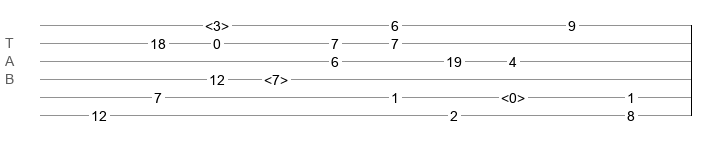0: (213, 36, 221, 46)
1: (391, 90, 399, 100), (627, 90, 635, 100)
12: (91, 108, 107, 118), (209, 72, 225, 82)
18: (150, 36, 166, 46)
19: (446, 54, 462, 64)
2: (450, 108, 458, 118)
4: (509, 54, 517, 64)
6: (331, 54, 339, 64), (391, 18, 399, 28)
7: (154, 90, 162, 100), (331, 36, 339, 46), (391, 36, 399, 46)
8: (627, 108, 635, 118)
9: (568, 18, 576, 28)
harmonic: (205, 18, 229, 28), (264, 72, 288, 82), (501, 90, 525, 100)
